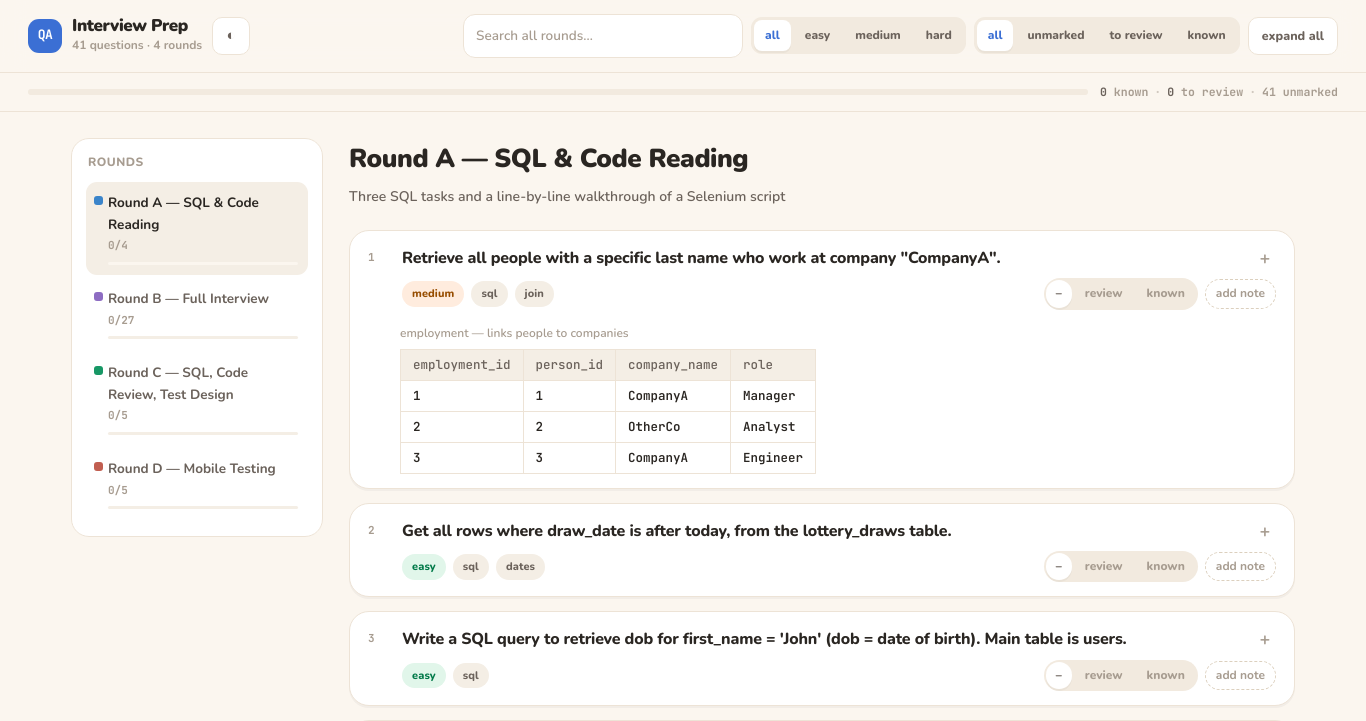
Test: App progress › offers a reset once anything is marked
The image size is (1366, 721).
Expected: the button "reset" is not shown
Click the button "review" in the row of "join": (1104, 294) [1074, 280, 1134, 308]
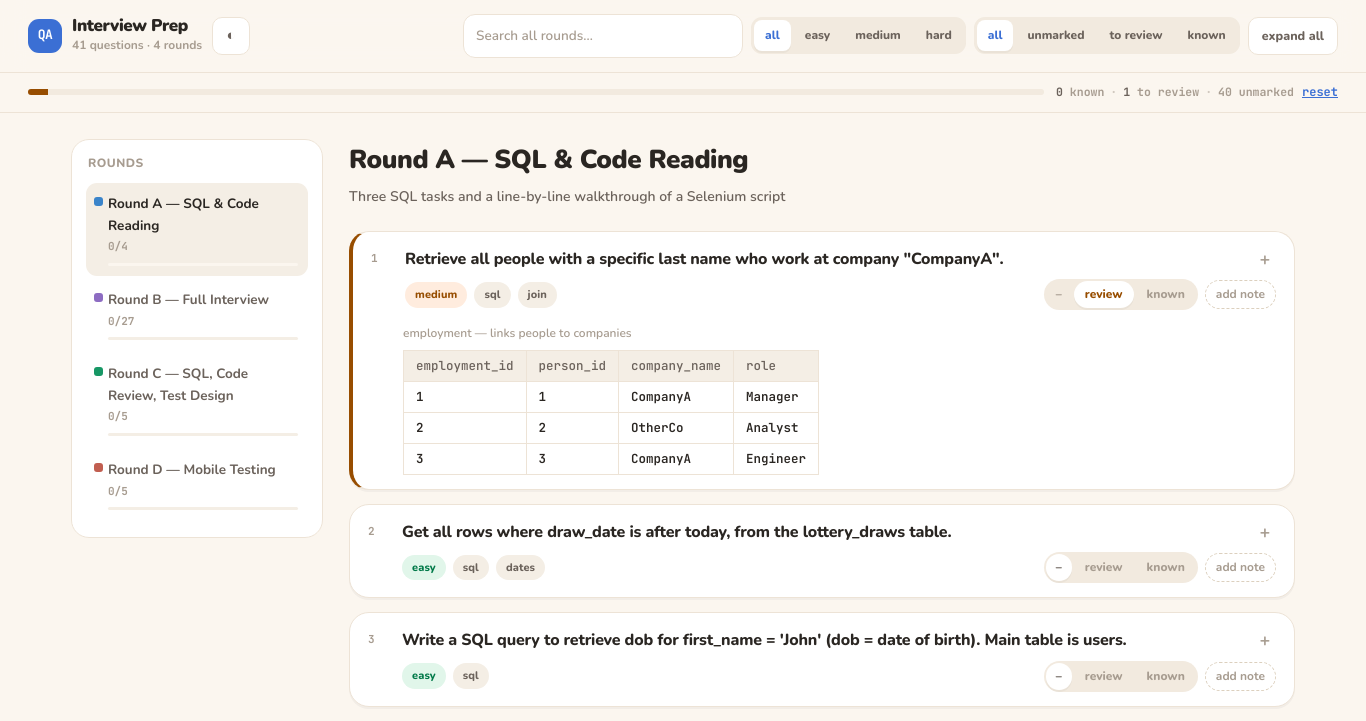
Result: the button "reset" is shown at [1302, 83, 1338, 102]
Result: the element showing "0 known·1 to review·40 unmarked reset" is shown at [1056, 83, 1338, 102]
